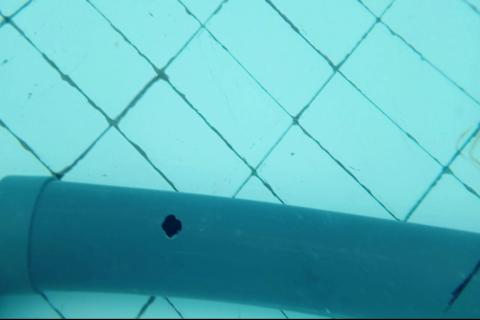kebocoran: (161, 212, 183, 241)
keretakan: (444, 257, 479, 312)
